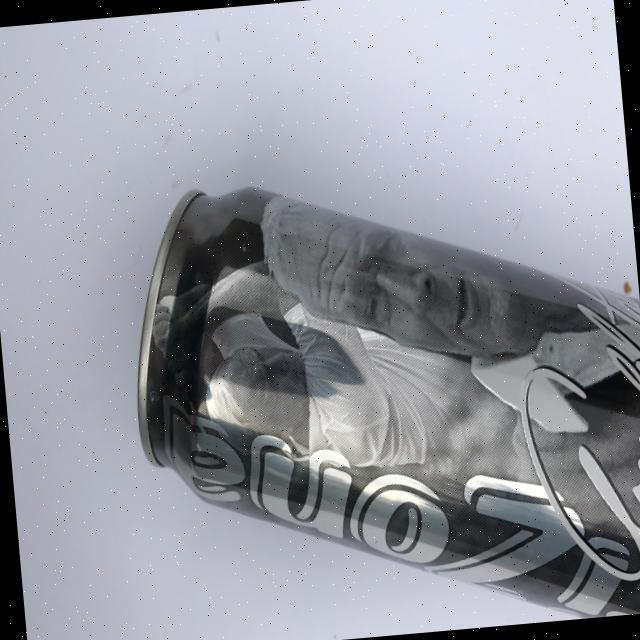metal: (117, 149, 640, 640)
